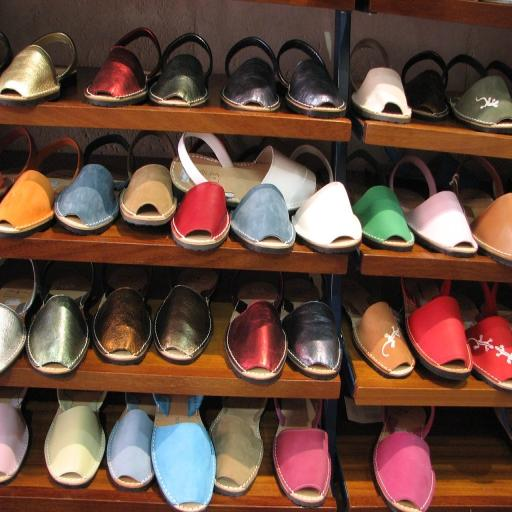sandal: (170, 132, 316, 211), (390, 156, 478, 258), (0, 137, 83, 238), (26, 261, 94, 377), (54, 133, 131, 235), (151, 394, 216, 512), (342, 278, 416, 378), (224, 272, 288, 384), (402, 278, 472, 380), (372, 406, 435, 512), (153, 268, 219, 364), (273, 398, 331, 507), (282, 275, 342, 380), (84, 27, 162, 107), (45, 390, 107, 488), (457, 281, 512, 391), (92, 264, 152, 364), (0, 32, 78, 106), (209, 397, 267, 496), (276, 39, 346, 118), (119, 131, 177, 226), (350, 38, 412, 123), (292, 182, 362, 254), (167, 172, 231, 250), (106, 392, 156, 491), (148, 33, 212, 107), (230, 184, 296, 254), (0, 258, 39, 375), (220, 37, 280, 112), (352, 185, 414, 251), (450, 155, 504, 225), (401, 51, 449, 121), (470, 193, 512, 266), (0, 387, 29, 484), (0, 127, 37, 200), (0, 32, 14, 74)
